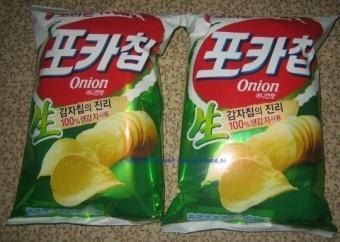snack: (4, 3, 191, 227), (160, 11, 340, 238)
